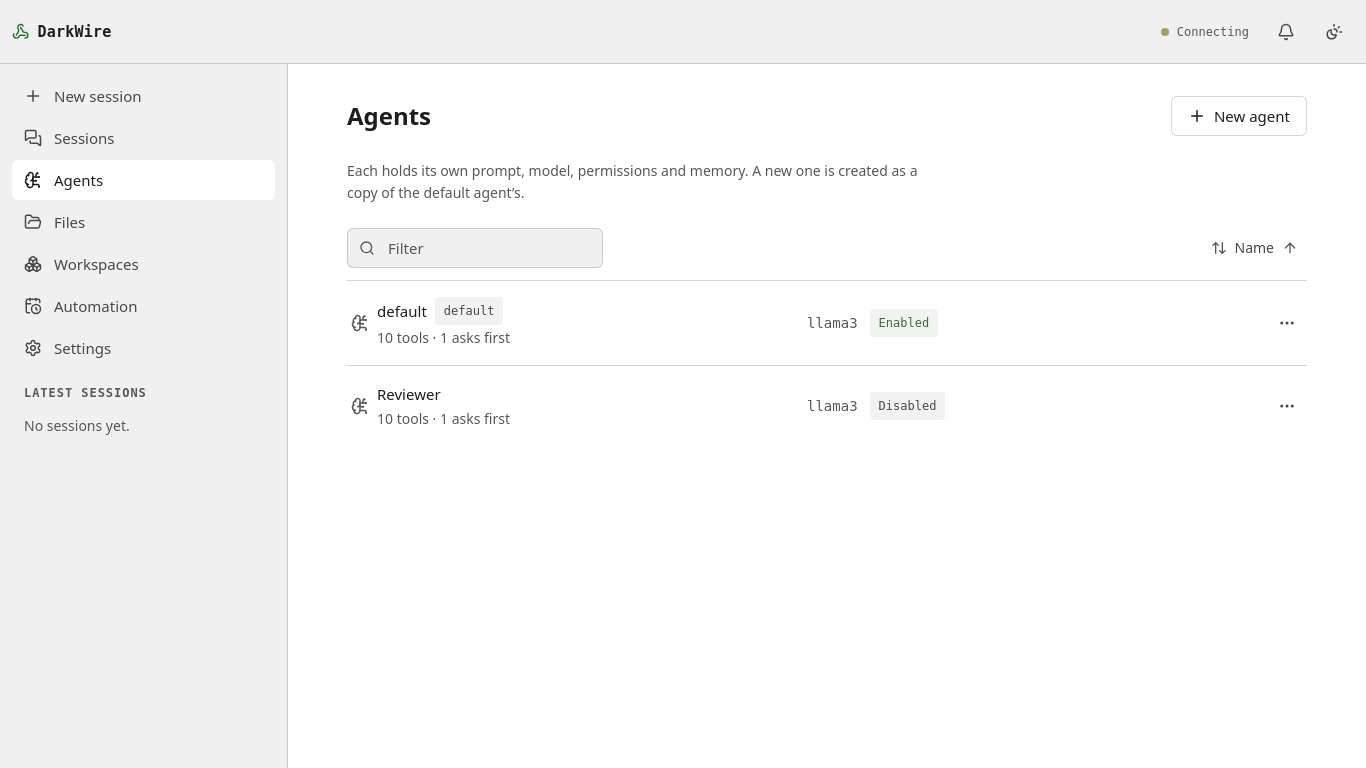
the agents index › offers Enable on one that is already off
The width and height of the screenshot is (1366, 768).
What coordinates should you click on to do the following:
click the button named "Actions for Reviewer"
I would click on:
 (1287, 406)
Its box is [1267,386,1307,426].
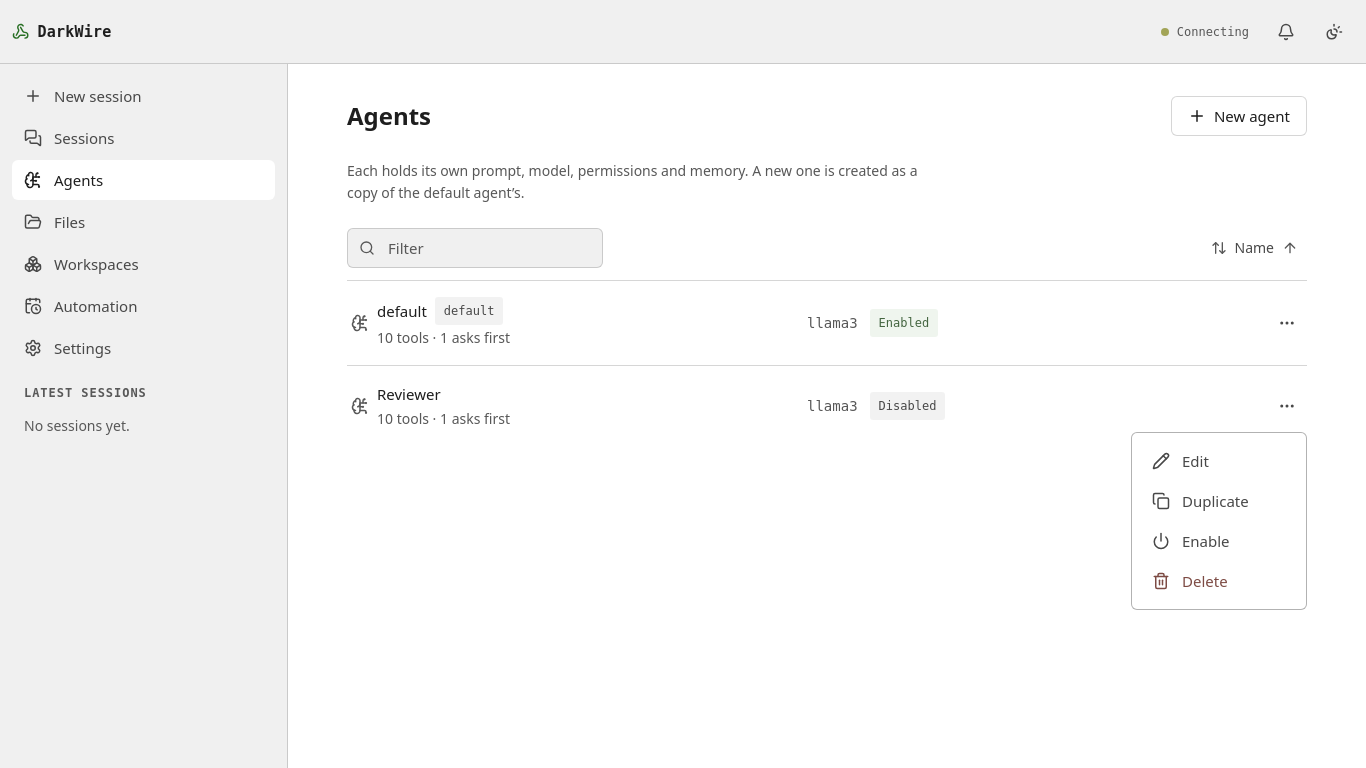
Expected: the menu item "Enable" is shown, [1152,531,1230,551]
